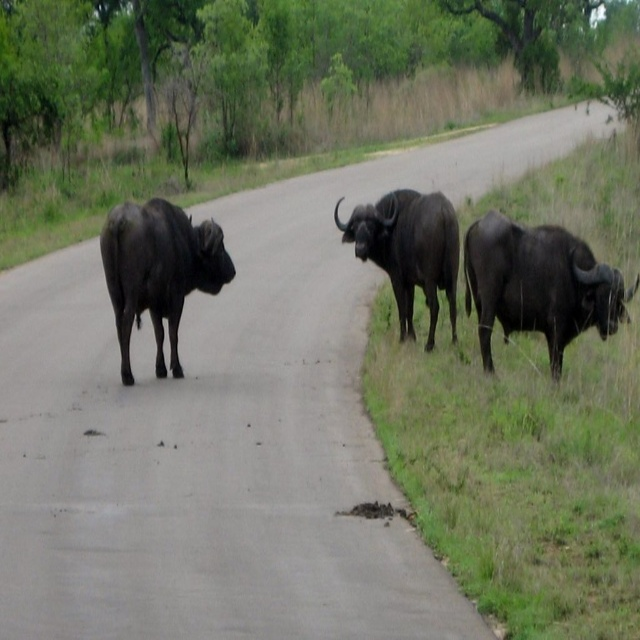Bull: (465, 208, 640, 378), (100, 197, 237, 388), (334, 188, 460, 354)
